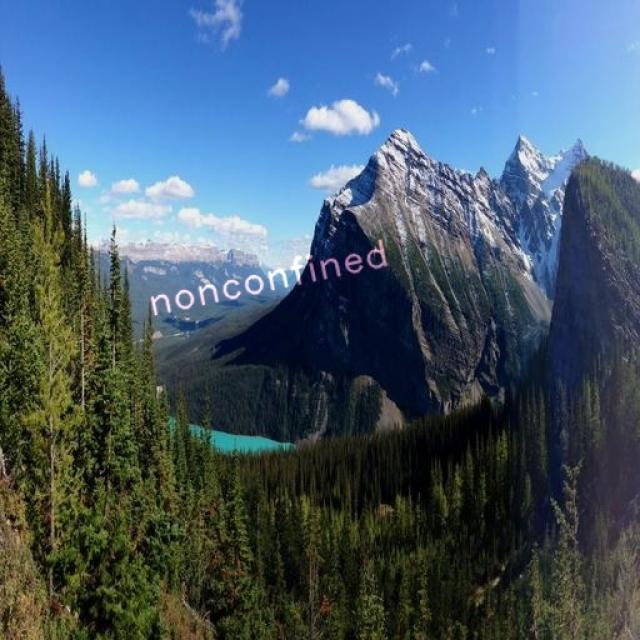watermark: (140, 235, 390, 322)
